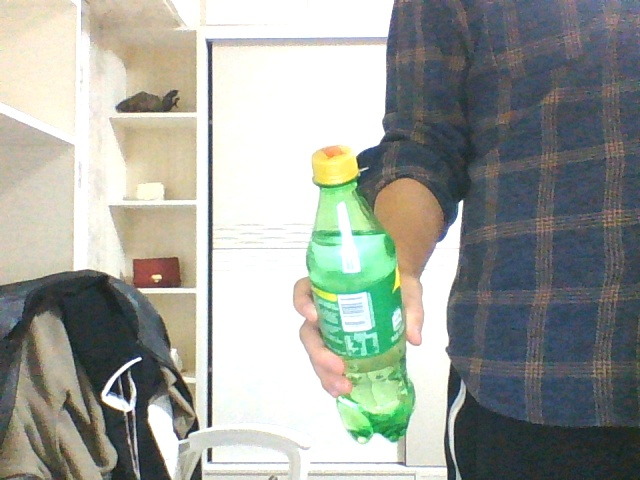Sprite: (307, 145, 413, 441)
